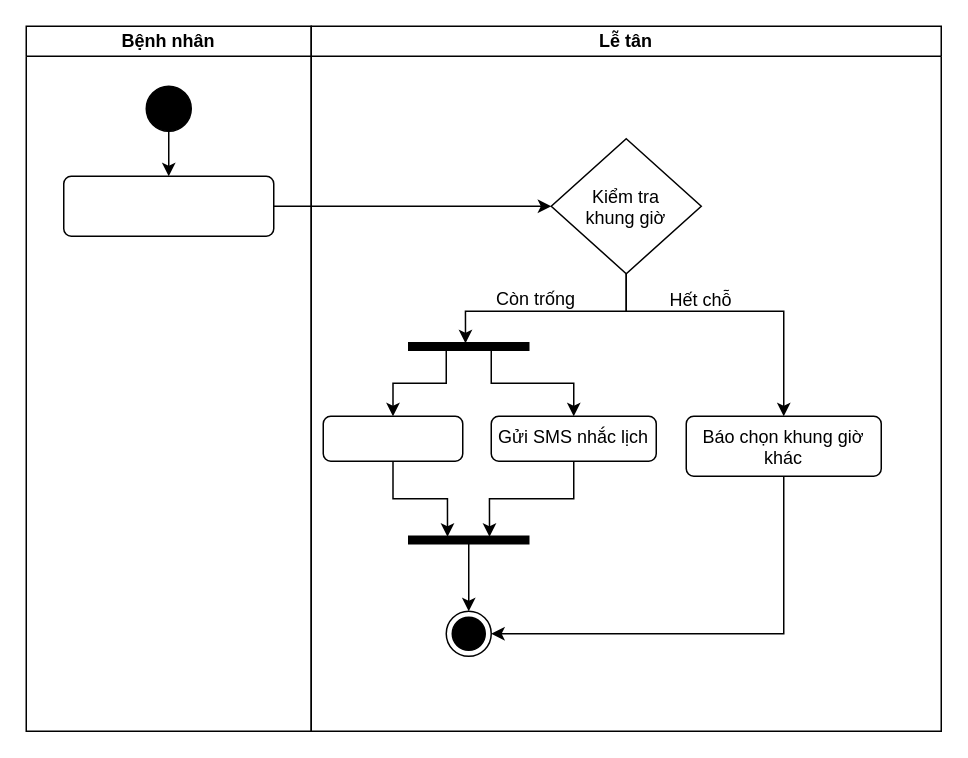
The diagram is 968 pixels wide and 758 high, and some of its shapes have lost their labels. Each missing label, with the centre of its shape:
Xác nhận lịch: pixel 392 438
Đặt lịch khám: pixel 168 205
